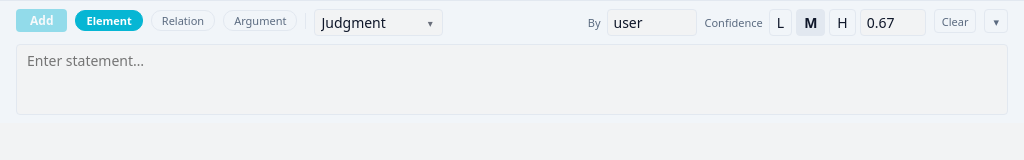
Test: the argument tab's controls wrap rather than widen the bar › joins the premises with +, each carrying the button that drops it
What coordinates should you click on to do the following:
click the button "Argument"
I would click on:
 (260, 20)
Its box is x1=223 y1=10 x2=297 y2=31.
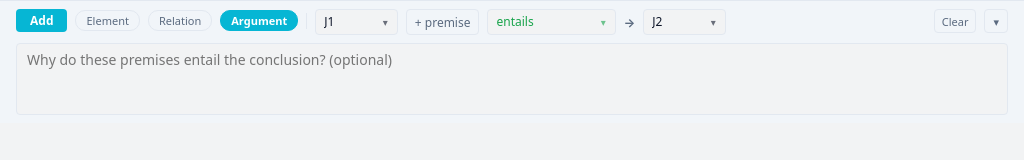
What coordinates should you click on to do the following:
click the button "+ premise"
I would click on:
 (443, 22)
Its box is x1=406 y1=9 x2=480 y2=35.
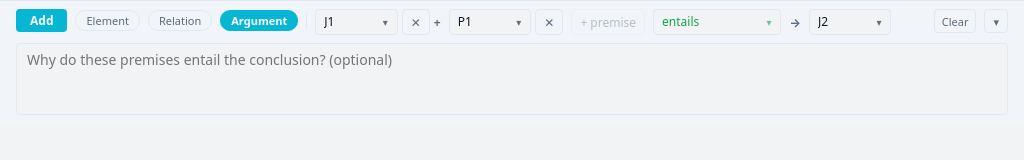
Expected: the text "+" is shown, x1=434 y1=14 x2=441 y2=30
Expected: the 2nd button "✕" is shown, x1=535 y1=9 x2=563 y2=35
